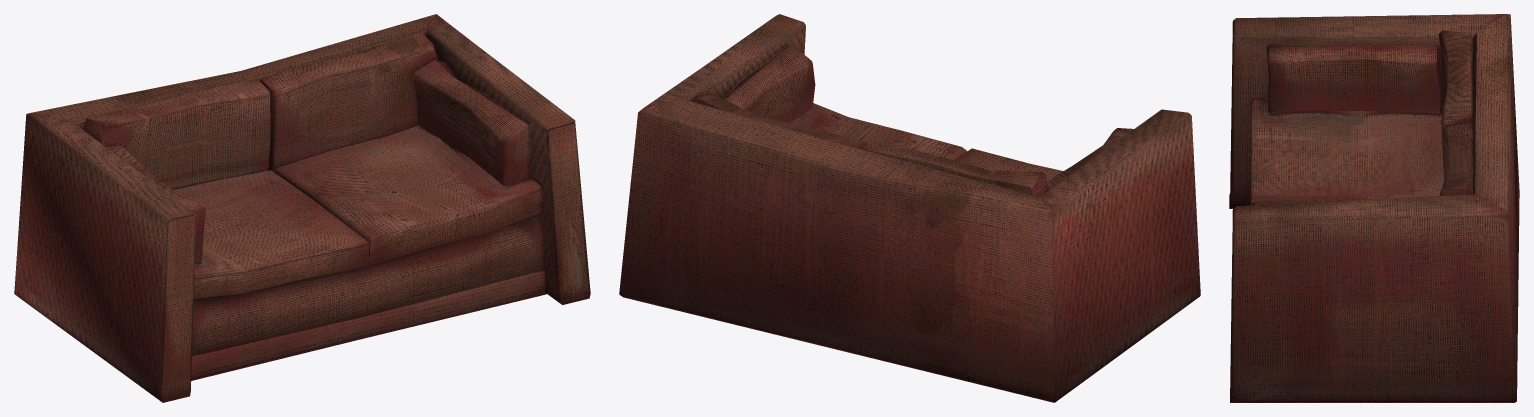
The model's file is furniturecouch001a.fbx.
The picture shows the model from 3 angles, left to right: view 1: azimuth 30°, elevation 25°; view 2: azimuth 150°, elevation 25°; view 3: azimuth 270°, elevation 25°; orthographic projection.
Parts seen in each view (by area): view 1: studiomesh_1; view 2: studiomesh_1; view 3: studiomesh_1.
Boxes of the visible parts, bbox=[...] form: studiomesh_1: bbox=[14, 14, 590, 402]; studiomesh_1: bbox=[619, 14, 1200, 402]; studiomesh_1: bbox=[1229, 14, 1519, 402].
Size of the model in its own units: 76.8 by 32.59 by 44.83.
